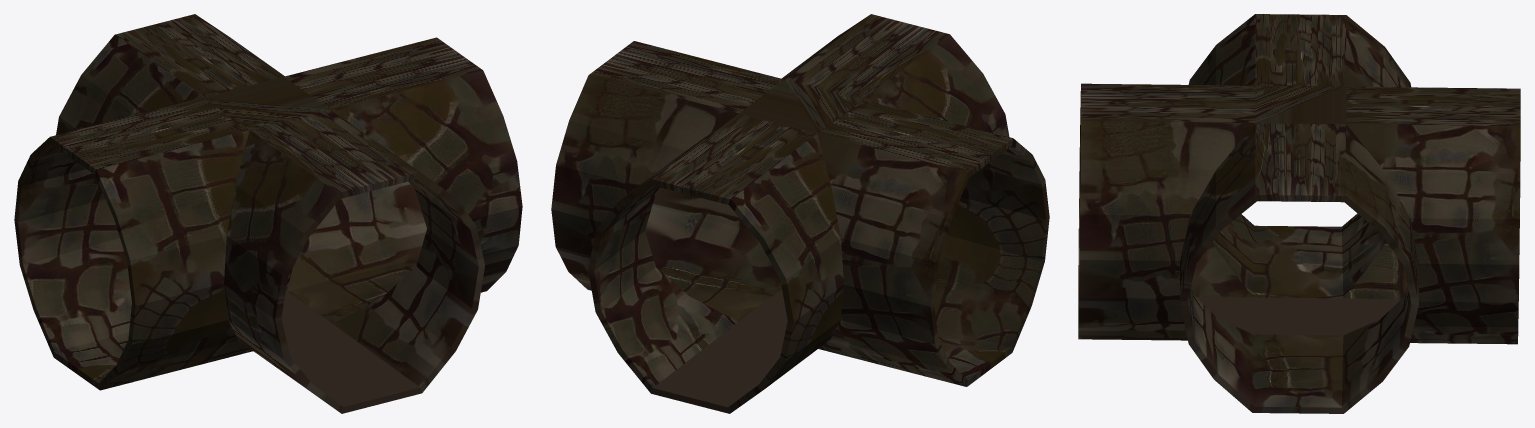
Rendered from Crawlway_Tee_ColliderMesh.fbx.
3 renders of one model, left to right at view 1: azimuth 30°, elevation 25°; view 2: azimuth 150°, elevation 25°; view 3: azimuth 270°, elevation 25°, orthographic.
Visible parts, largest first — view 1: CrawlSpace_Pipe_Tee_ColliderMesh; view 2: CrawlSpace_Pipe_Tee_ColliderMesh; view 3: CrawlSpace_Pipe_Tee_ColliderMesh.
Boxes of the visible parts, x1,y1,x2,y2 form: CrawlSpace_Pipe_Tee_ColliderMesh: (14,14,522,413); CrawlSpace_Pipe_Tee_ColliderMesh: (551,14,1049,413); CrawlSpace_Pipe_Tee_ColliderMesh: (1078,14,1520,413).
Bounding box in the file's own units: 308 × 171 × 308.
